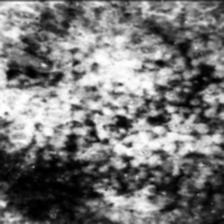Potentially Malignant Skin Tumors: (0, 2, 214, 224)
